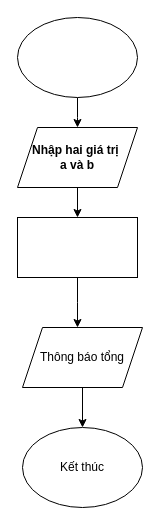
Some shapes in this 160 by 525 pixel diagram are drawn without their labels. Each missing label, with the box of its shape:
Bắt đầu: (16, 16, 138, 98)
Tổng = a + b: (16, 216, 138, 278)
